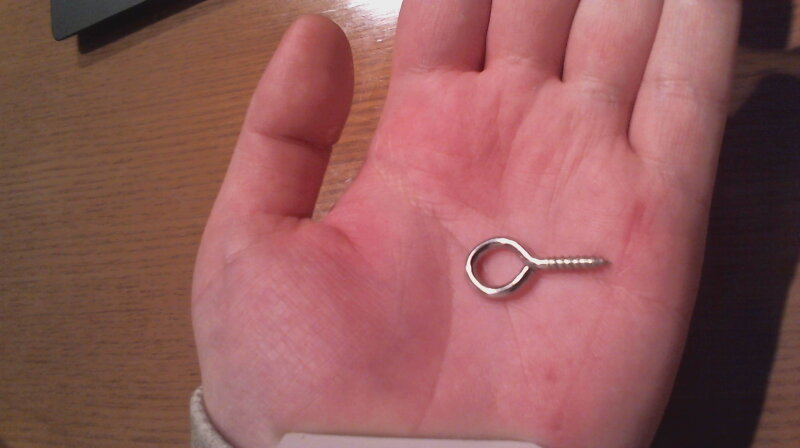O001: (459, 229, 613, 305)
